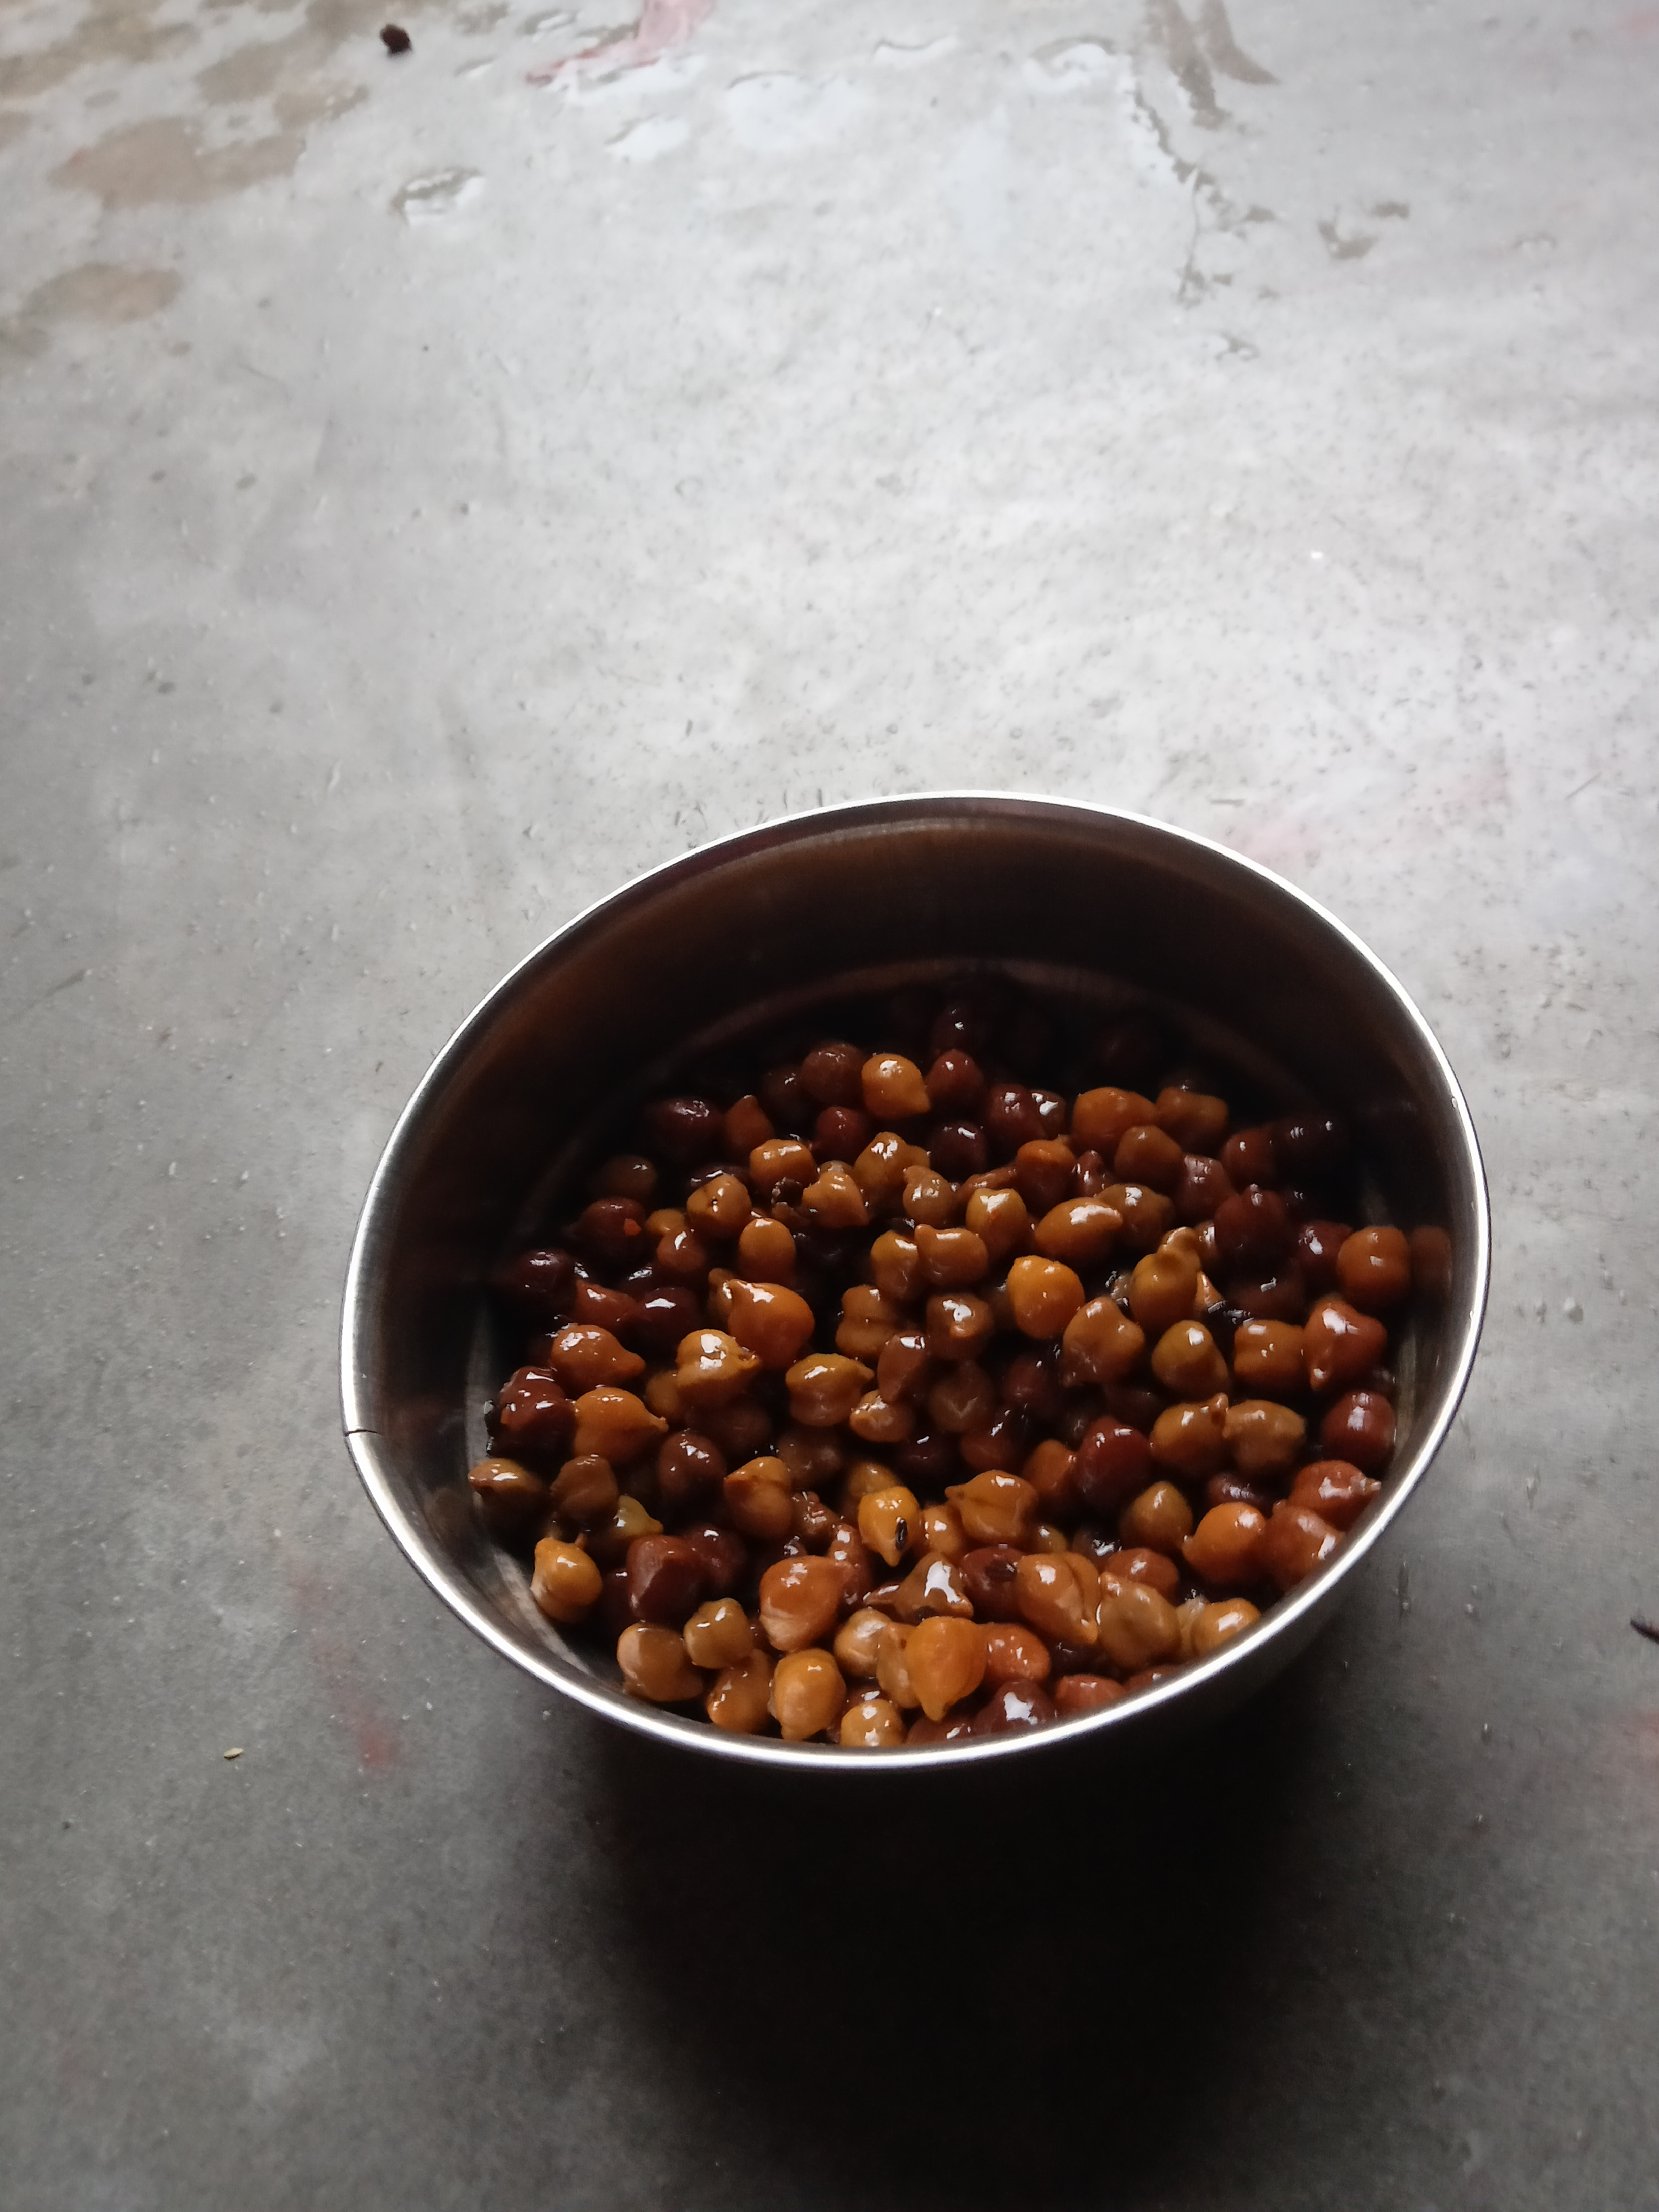food: (453, 954, 1455, 1752)
